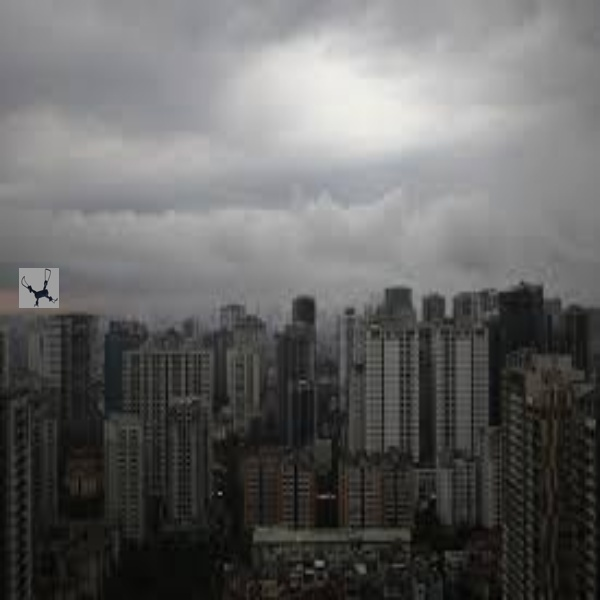drone: (16, 268, 62, 308)
